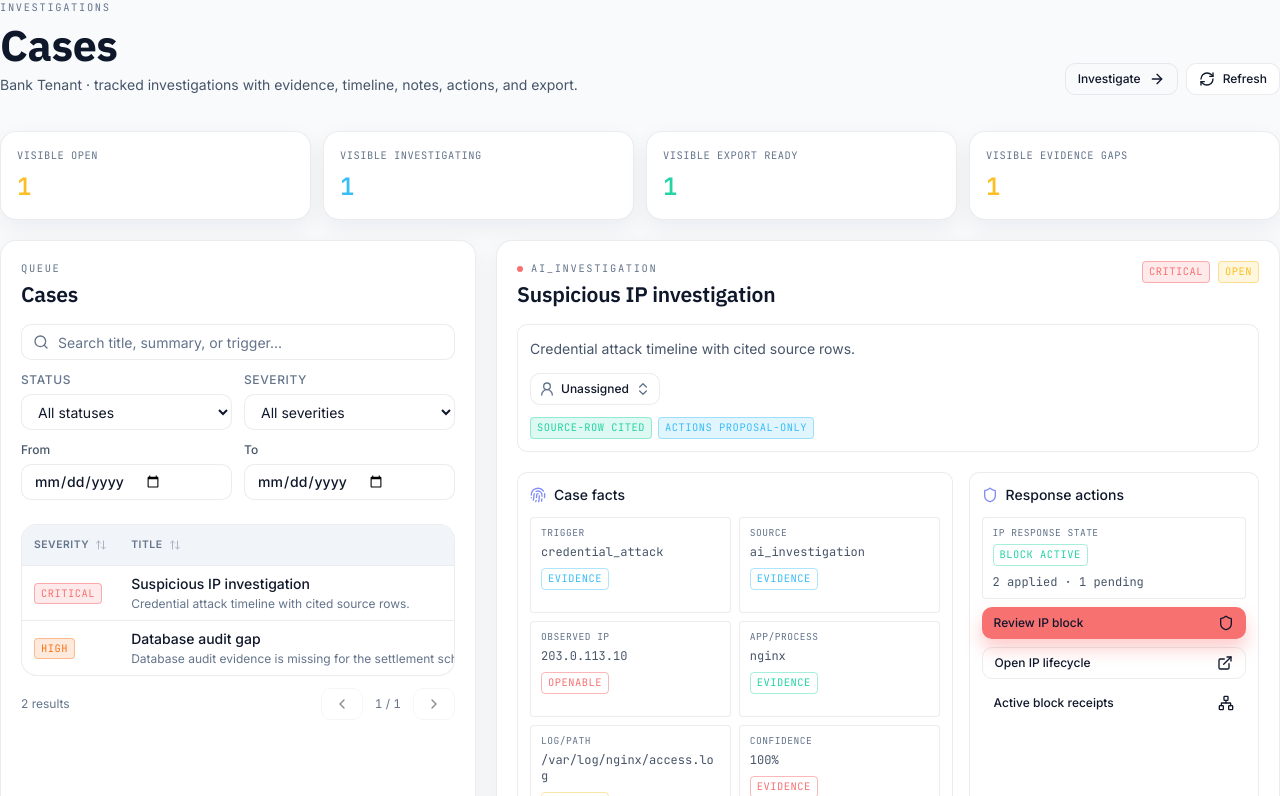
Test: Cases › clears stale case detail when the selected case detail fails
Click the text "Database audit gap" at (196, 638), box top-left (131, 630), bottom-right (260, 647)
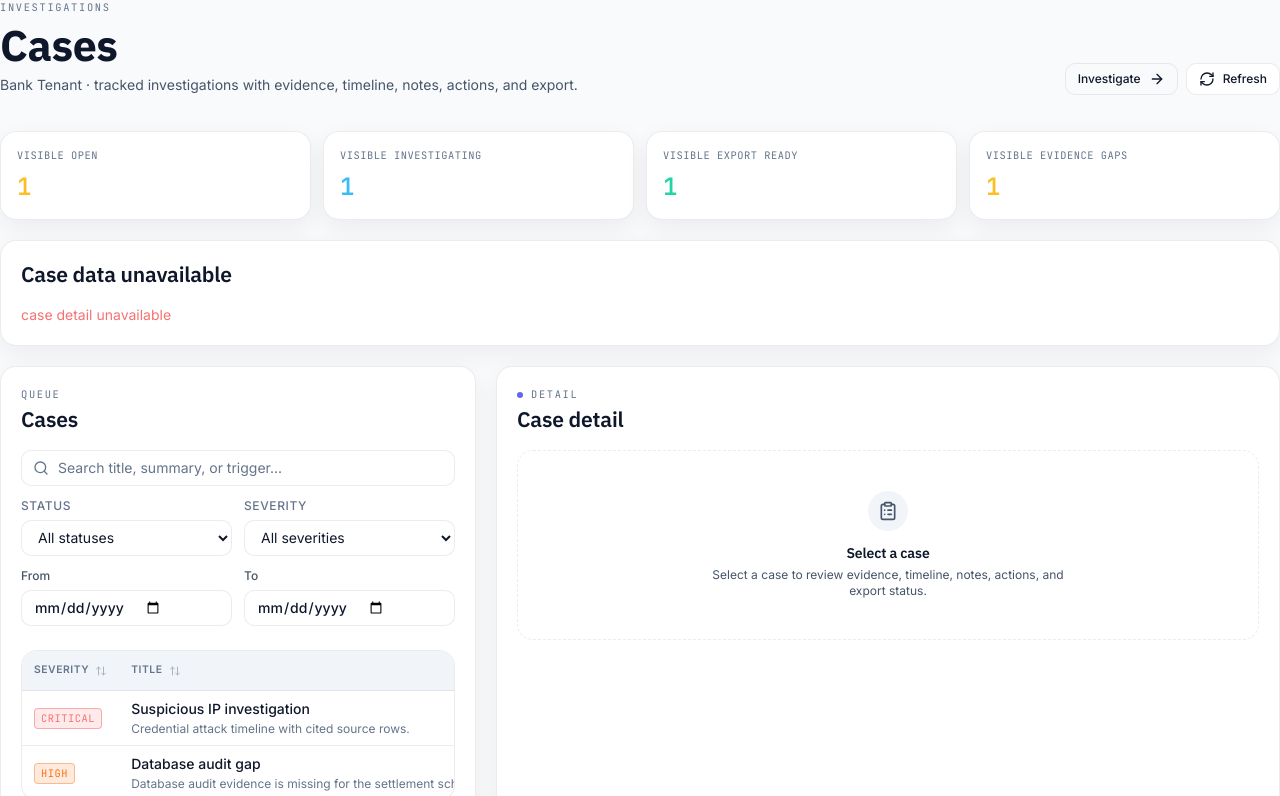
Now the message reads "case detail unavailable", box top-left (21, 306), bottom-right (171, 323)
Now the heading "Select a case" is shown, box top-left (846, 544), bottom-right (930, 562)
